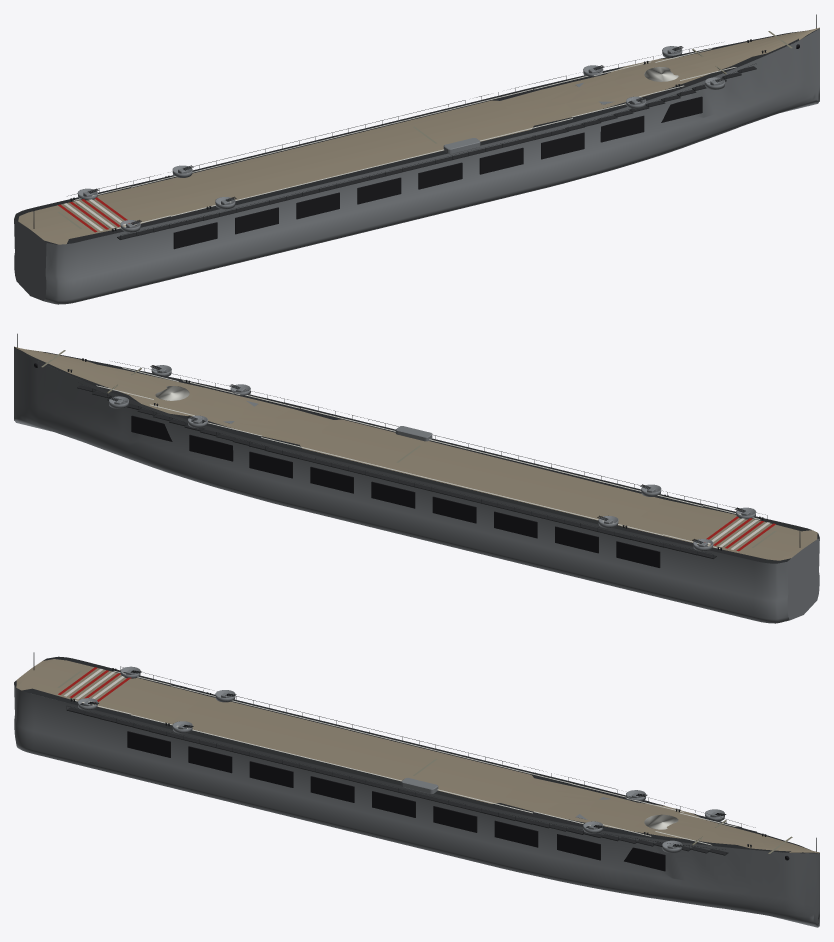
Rendered from ryuho_lod.glb.
3 views of the same model, one above another, from view 1: azimuth 30°, elevation 25°; view 2: azimuth 150°, elevation 25°; view 3: azimuth 330°, elevation 25° (orthographic).
Parts seen in each view (by area): view 1: ryuho_lod; view 2: ryuho_lod; view 3: ryuho_lod.
Boxes of the visible parts, x1,y1,x2,y2 form: ryuho_lod: (14, 14, 819, 304); ryuho_lod: (14, 333, 819, 623); ryuho_lod: (14, 652, 819, 927).
Size of the model in its own units: 216 by 23.4 by 25.38.
